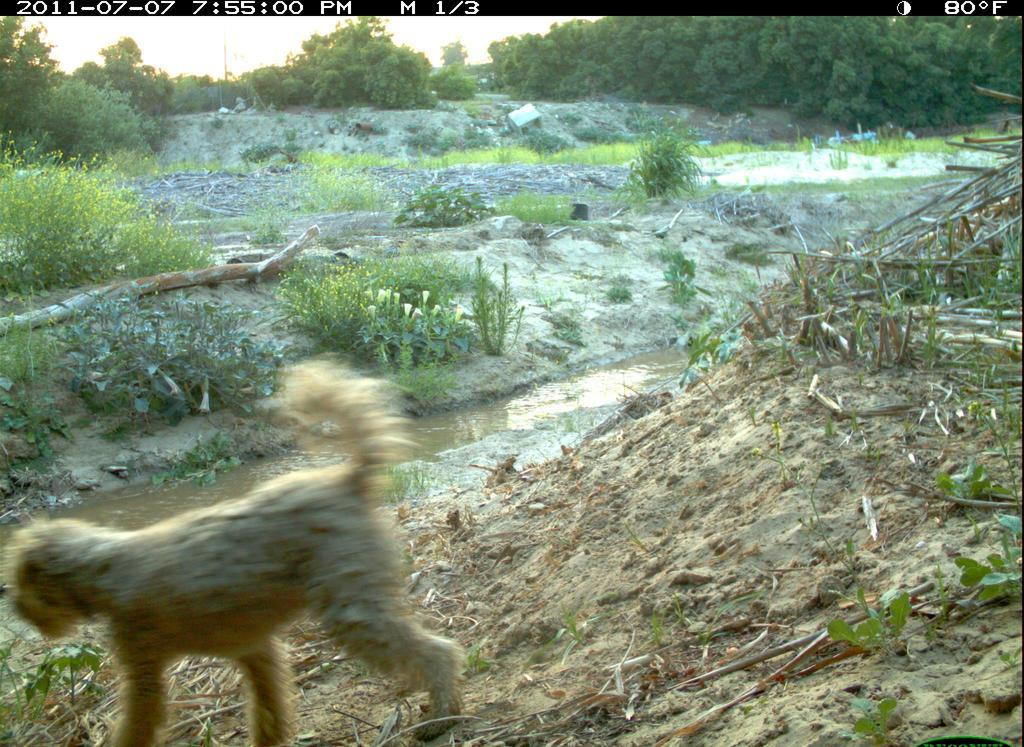dog: (4, 350, 496, 745)
